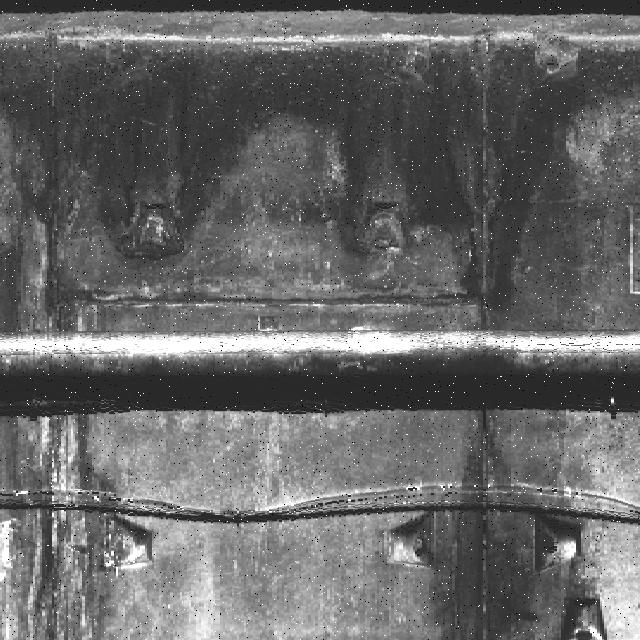leakage: (2, 31, 640, 329), (433, 409, 571, 639), (1, 401, 123, 639)
